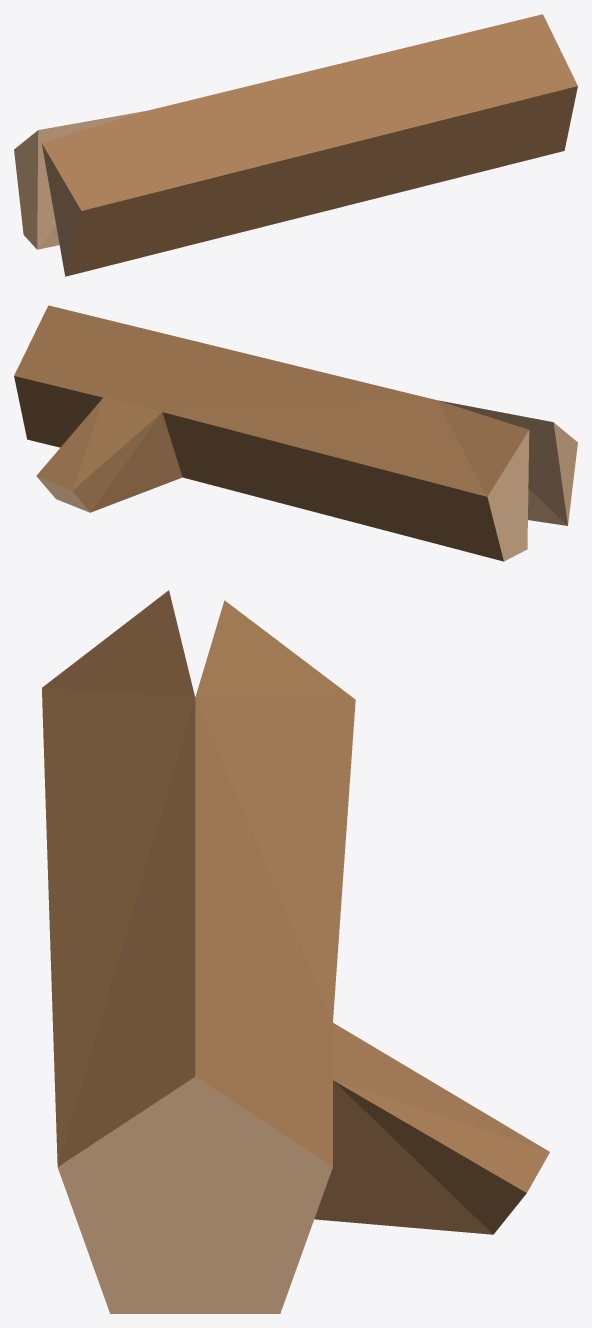
Rendered from Pine_Firewood_04.fbx.
The picture shows the model from 3 angles, top to bottom: view 1: azimuth 30°, elevation 25°; view 2: azimuth 150°, elevation 25°; view 3: azimuth 270°, elevation 25°; orthographic projection. The views are drawn at different scales.
Parts seen in each view (by area): view 1: Pine_Firewood_04; view 2: Pine_Firewood_04; view 3: Pine_Firewood_04.
Boxes of the visible parts, left/top/right/bottom form: Pine_Firewood_04: left=14, top=14, right=577, bottom=276; Pine_Firewood_04: left=14, top=305, right=577, bottom=561; Pine_Firewood_04: left=42, top=590, right=549, bottom=1313.
Size of the model in its own units: 55.23 by 12.61 by 24.38.
